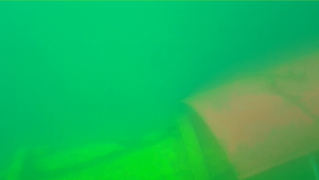leak: (173, 53, 319, 180)
pipe: (1, 109, 236, 180), (245, 148, 319, 179)
